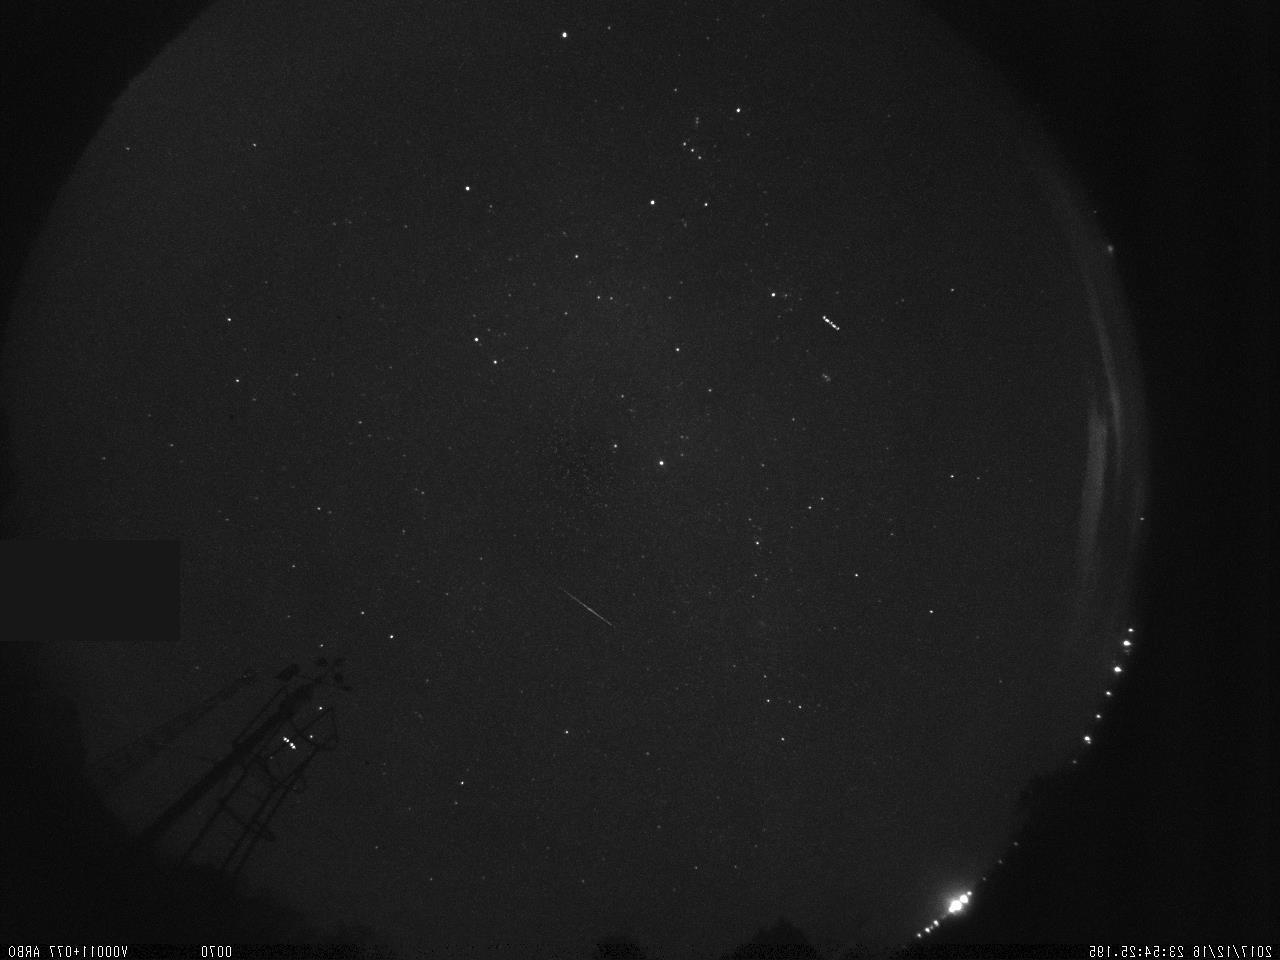meteor: (547, 579, 617, 633)
satelite: (819, 309, 845, 338)
